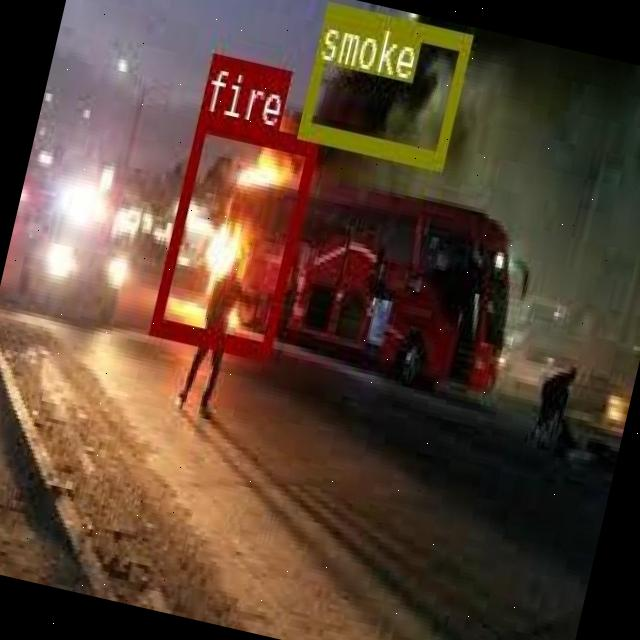fire: (149, 110, 317, 354)
smoke: (296, 1, 470, 166)
